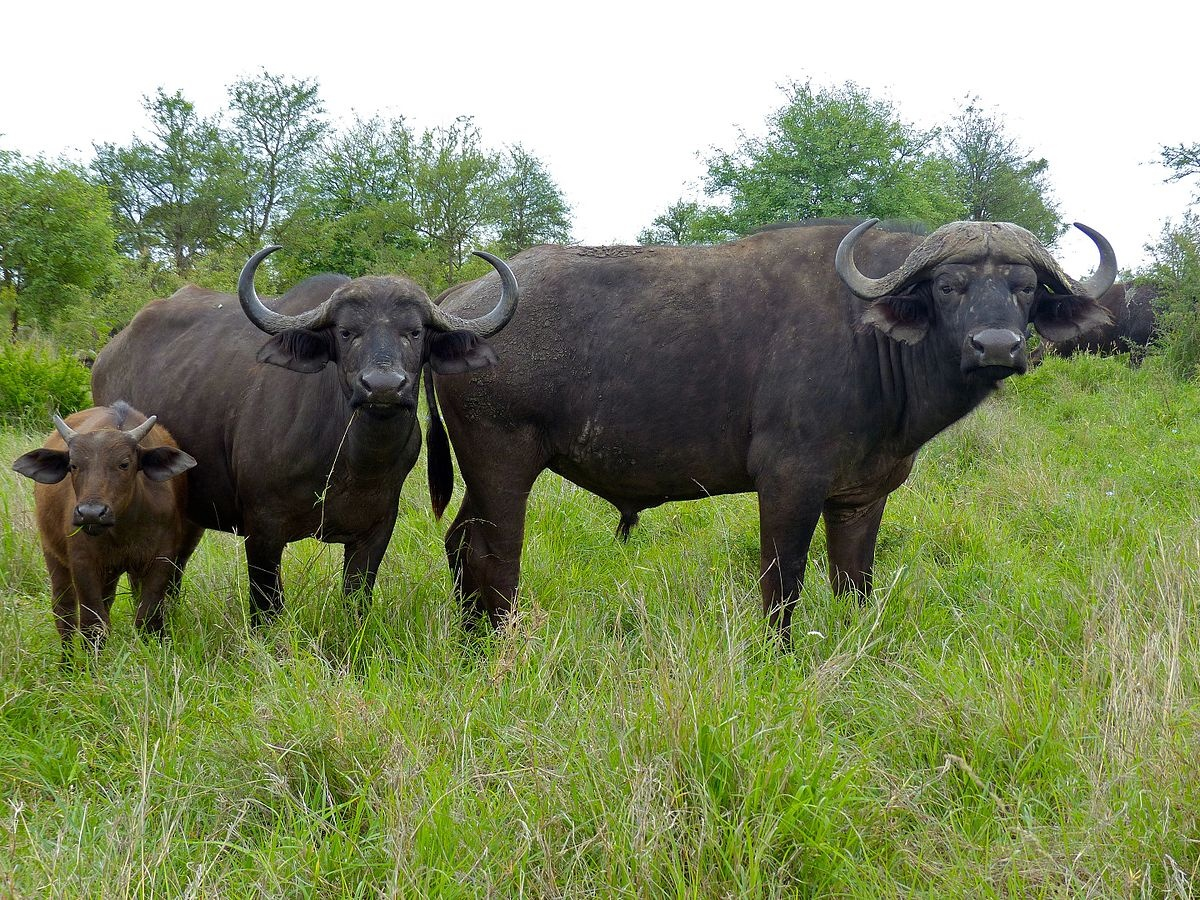buffalo: (412, 207, 1122, 666), (87, 237, 518, 657), (10, 403, 197, 674)
